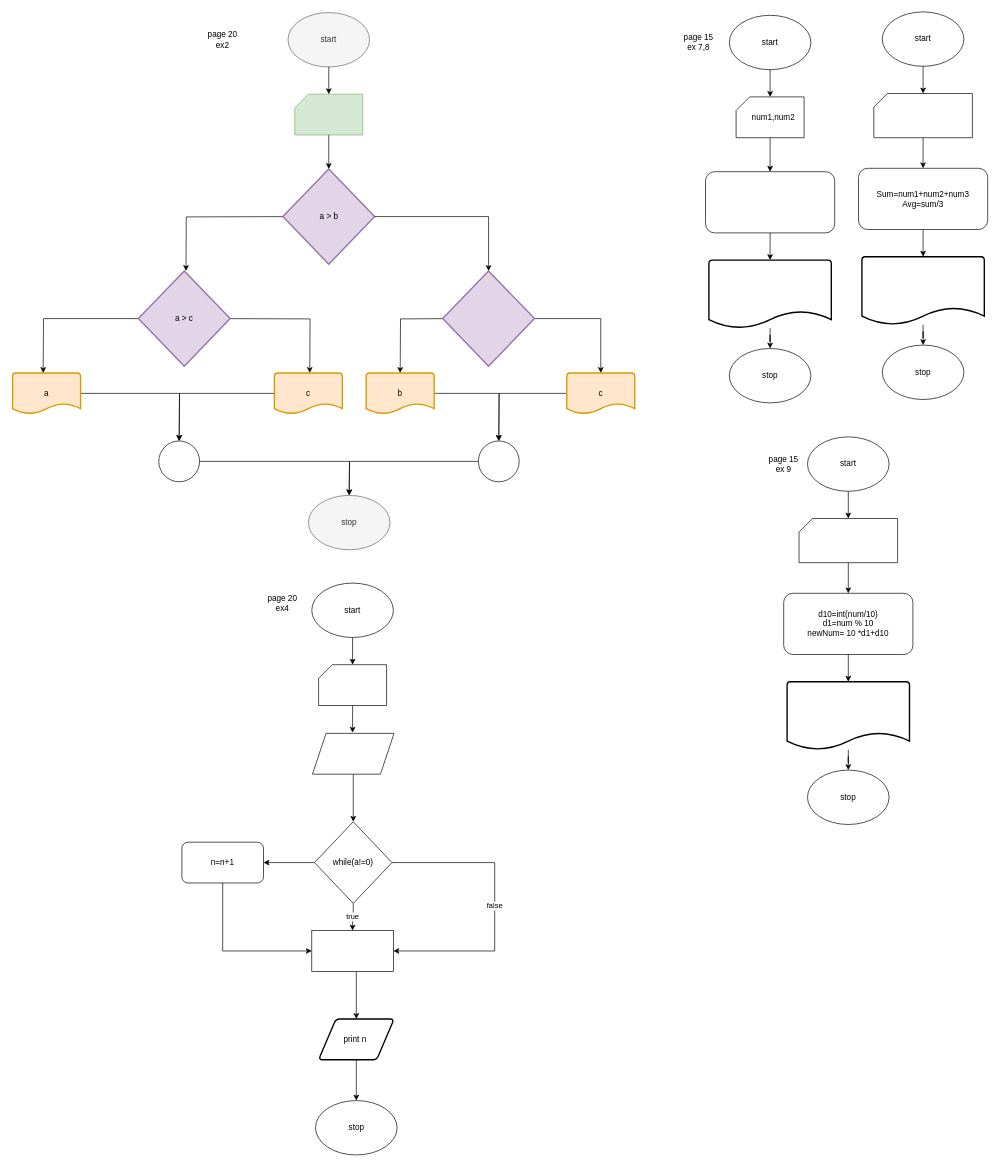
The diagram is 1000 pixels wide and 1167 high, and some of its shapes have lost their labels. The box of each missing label's shape, as (x1, y1, x2, y2) in pixels:
"new sum of numbers is:" + newSum: (786, 681, 910, 750)
"sum of numbers is:"+ Avg: (861, 256, 985, 325)
"sum of numbers is:"+ Sum: (708, 259, 832, 328)
a b c: (294, 94, 363, 135)
a n: (318, 664, 387, 706)
a=a/10: (311, 930, 393, 971)
b > c: (442, 270, 535, 367)
num: (798, 518, 898, 563)
num1,num2,num3: (873, 93, 972, 138)
read a: (312, 733, 394, 774)
Sum=num1+num2: (705, 171, 835, 233)
